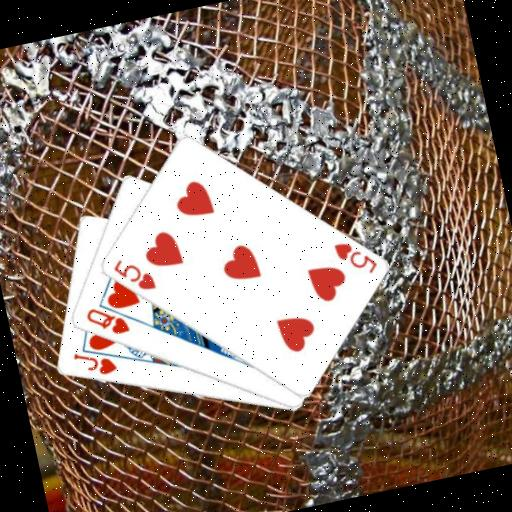5H: (107, 249, 158, 298), (329, 233, 380, 282)
JH: (68, 342, 119, 383)
QH: (80, 298, 131, 342)
